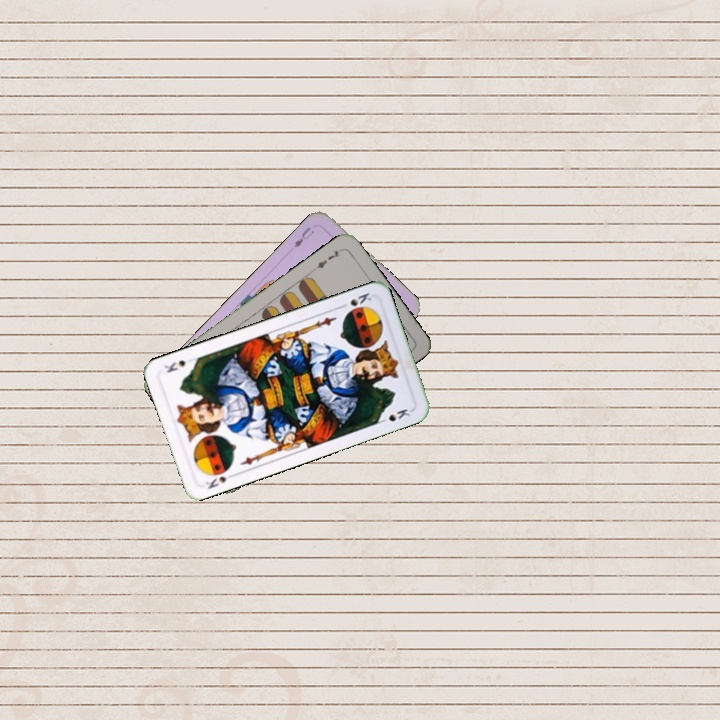E7: (311, 245, 345, 273)
EU: (290, 223, 317, 250)
SK: (335, 288, 374, 311), (202, 469, 238, 492)
